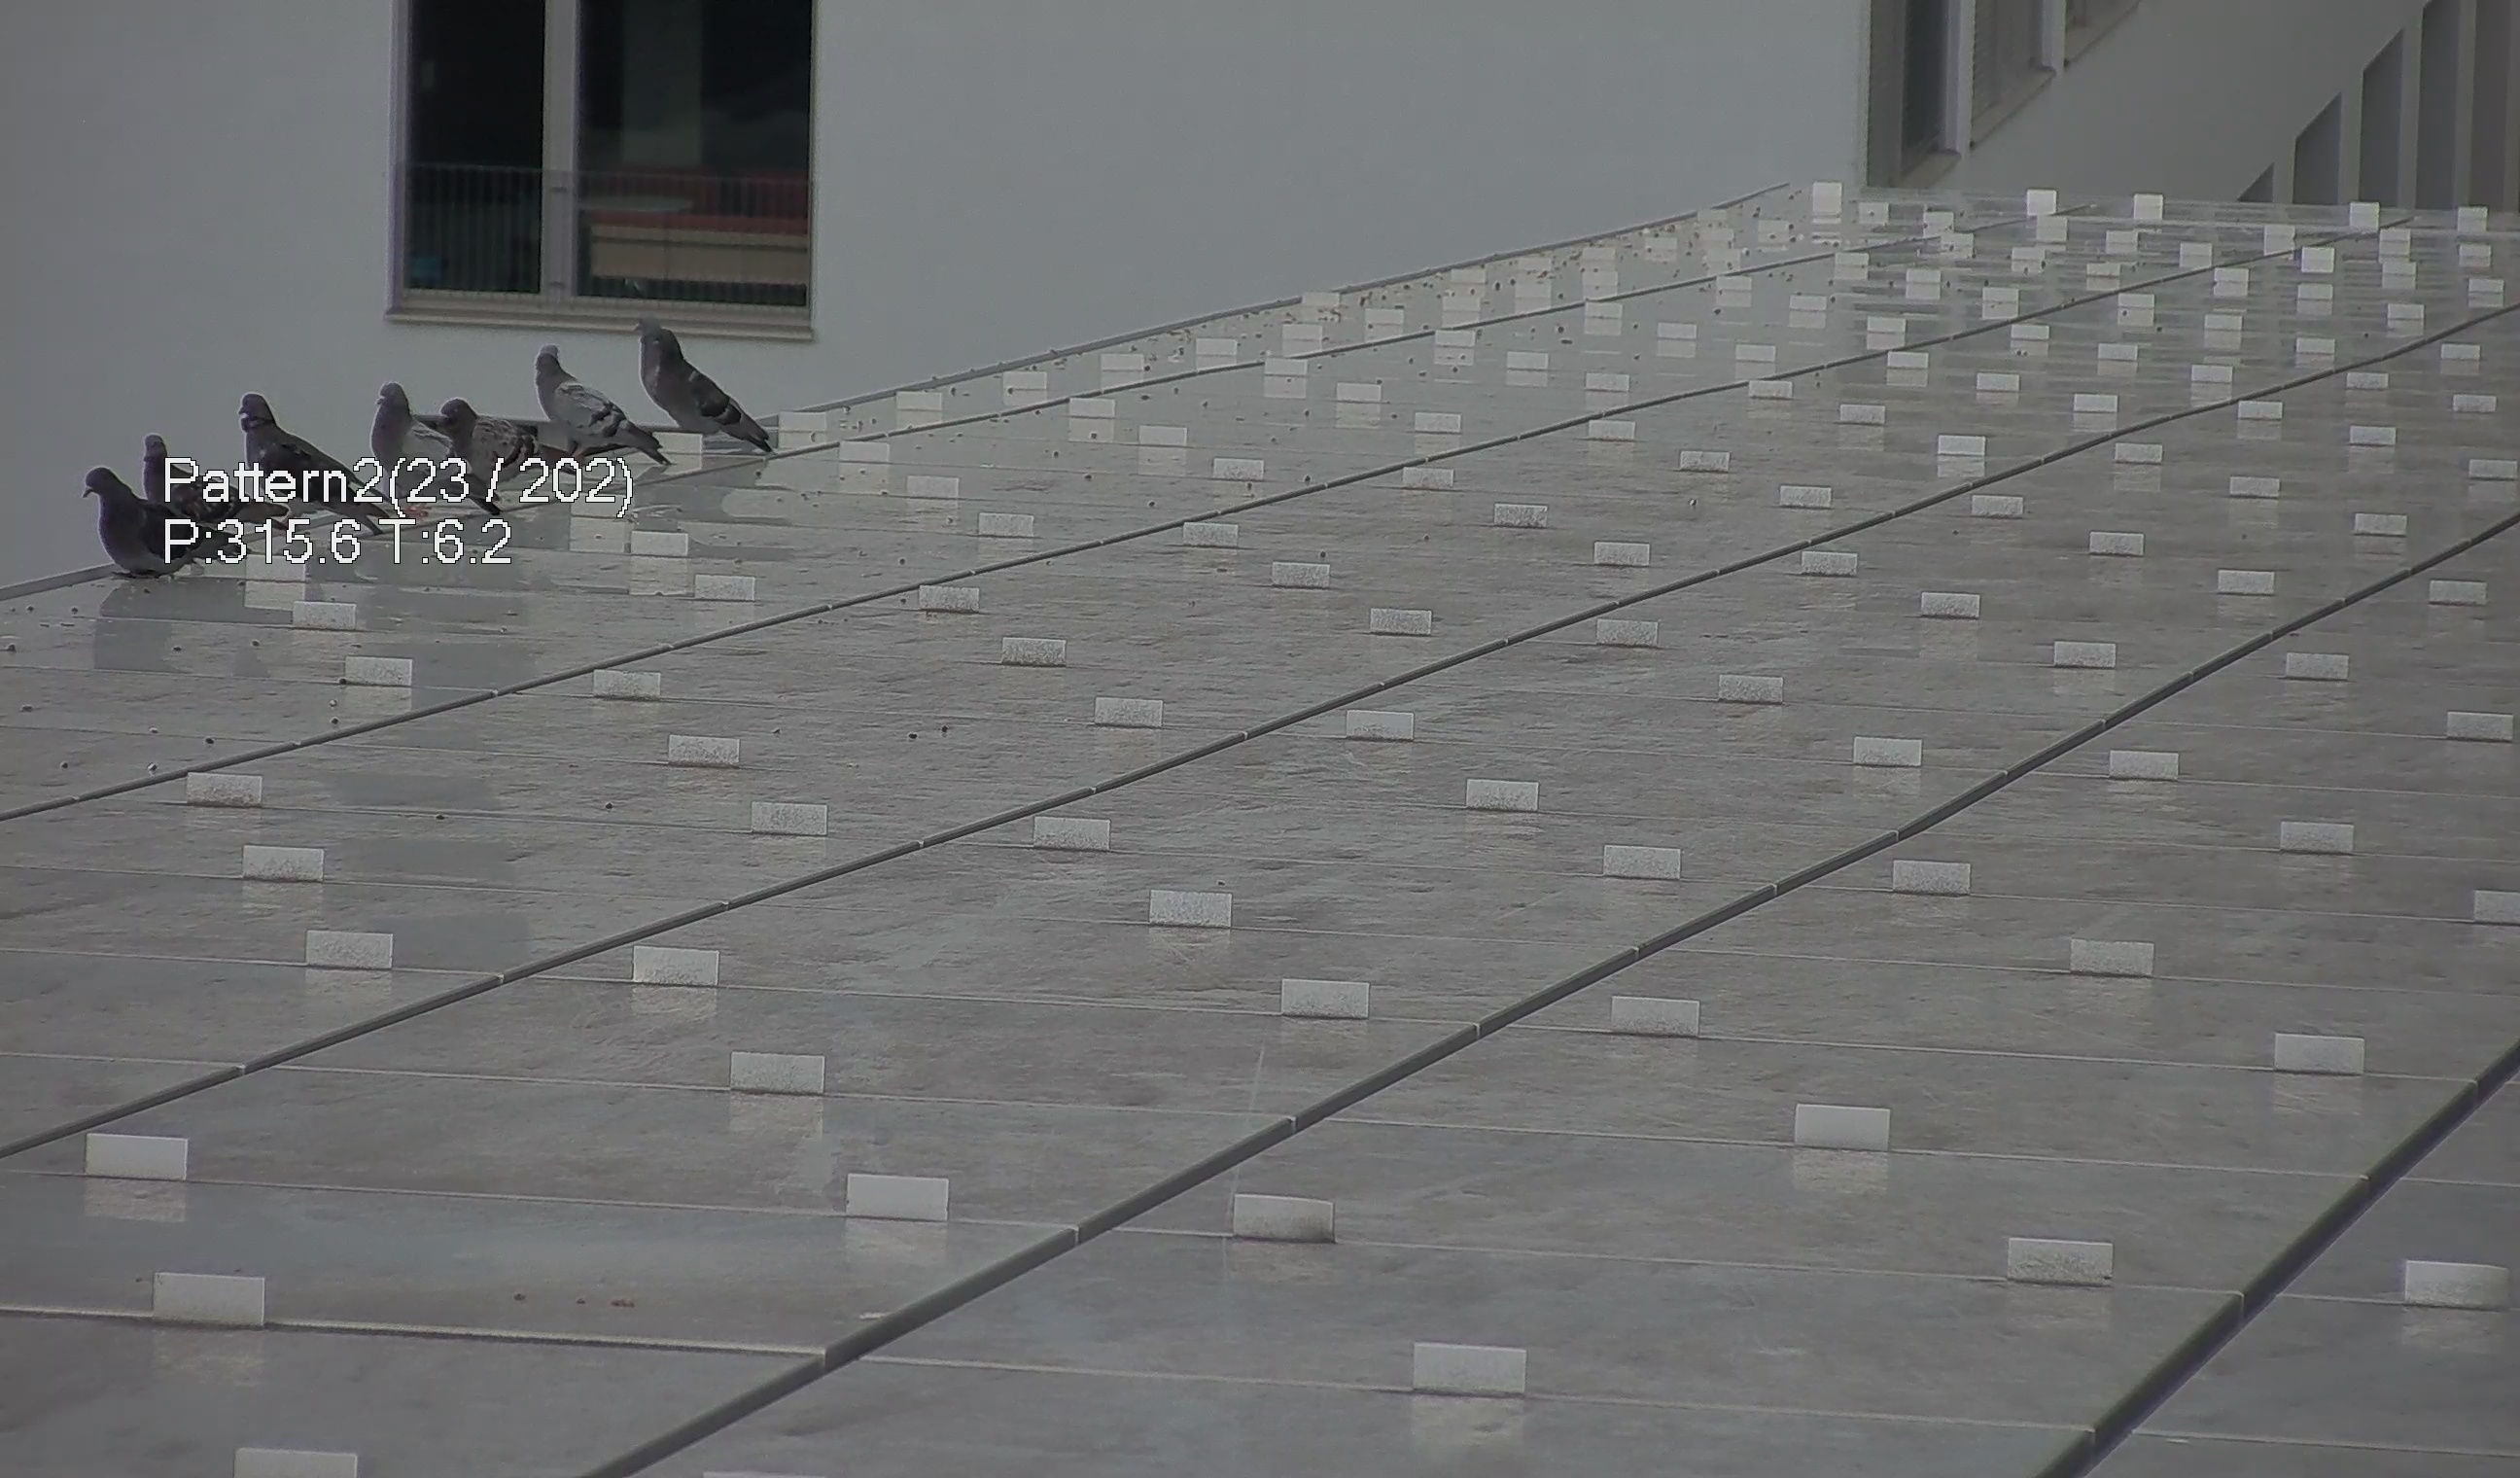Pigeon: (617, 315, 768, 457), (510, 329, 649, 466), (67, 442, 200, 579), (215, 380, 352, 505), (440, 384, 550, 468), (134, 431, 218, 509), (375, 382, 447, 465)
